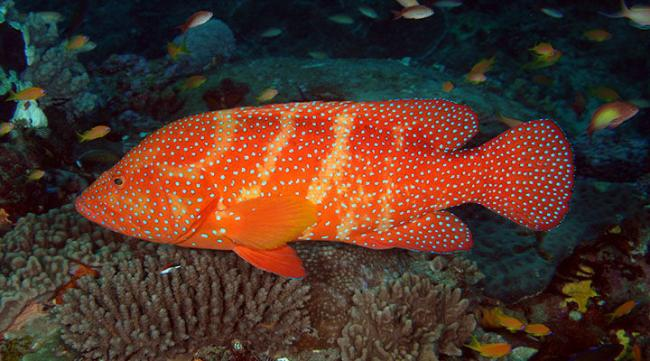fish: (75, 99, 576, 278)
